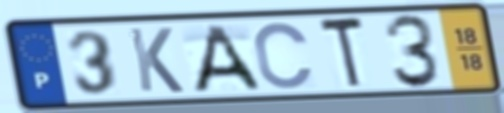3: (382, 12, 443, 90), (63, 27, 118, 97)
A: (190, 22, 265, 95)
C: (251, 19, 317, 91)
K: (125, 26, 187, 95)
T: (316, 13, 368, 92)
